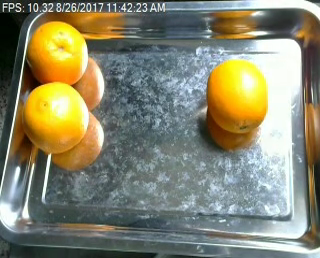Orange: (20, 81, 89, 154), (207, 56, 268, 133), (25, 19, 88, 85)
